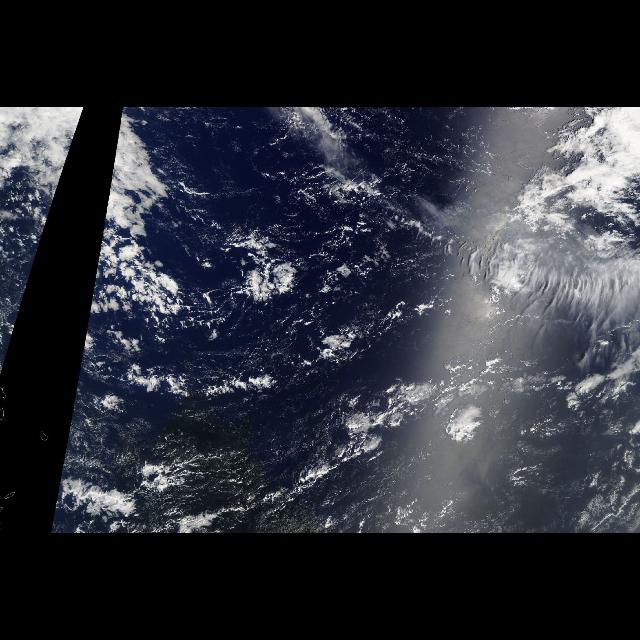Gravel: (92, 109, 452, 533)
